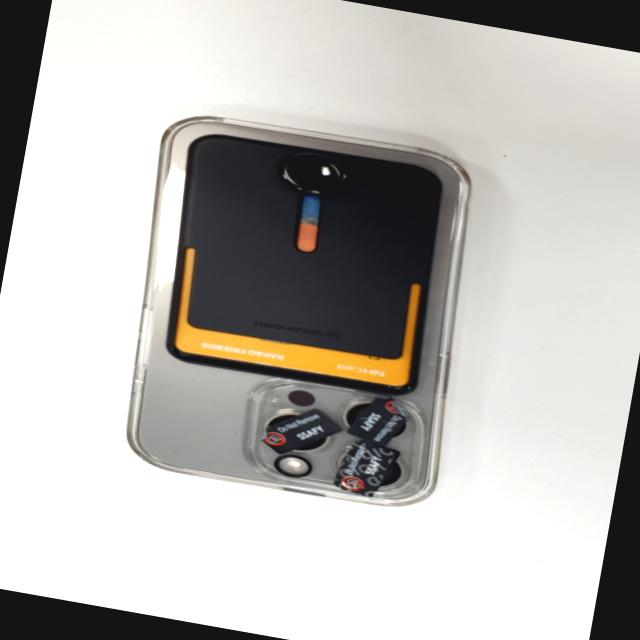phone: (104, 102, 493, 514)
removed_sticker: (332, 439, 396, 496)
sticker: (261, 398, 342, 460), (344, 396, 406, 446)
